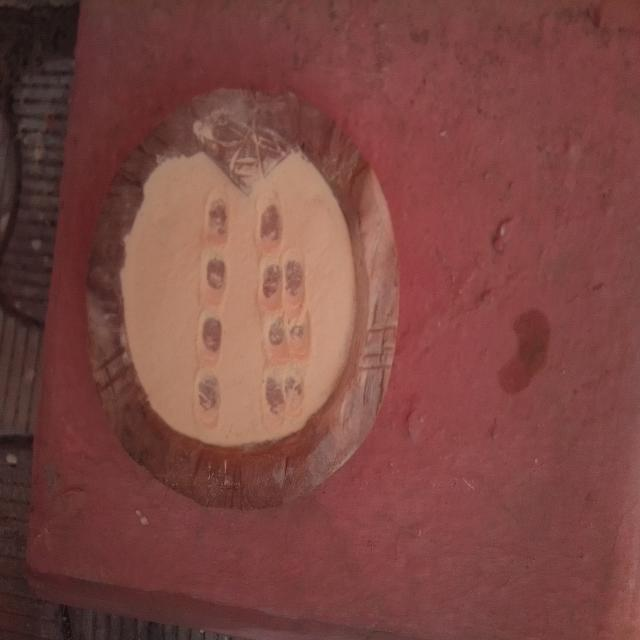double: (257, 253, 310, 313), (261, 306, 314, 366), (260, 363, 308, 426)
single: (253, 192, 286, 260), (197, 247, 230, 314), (190, 370, 223, 433), (202, 184, 232, 253), (196, 314, 226, 372)
